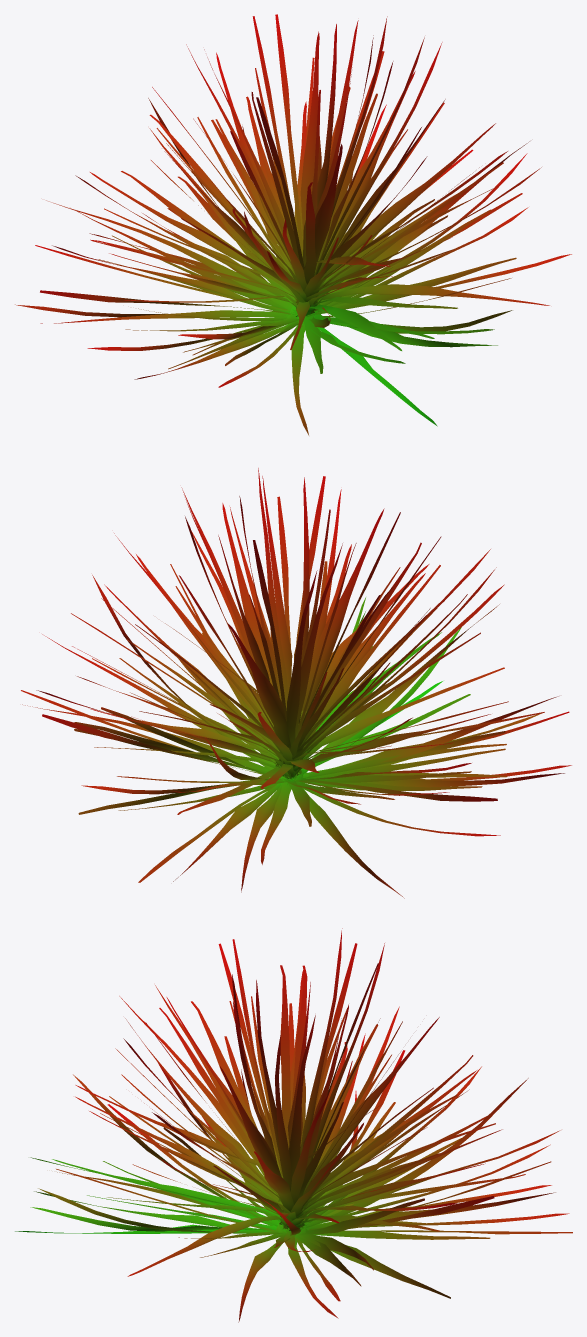
Rendered from Var11_LOD2.fbx.
3 views of the same model, one above another, from view 1: azimuth 30°, elevation 25°; view 2: azimuth 150°, elevation 25°; view 3: azimuth 270°, elevation 25° (orthographic). The views are drawn at different scales.
Parts seen in each view (by area): view 1: _kngv_Var11_LOD2; view 2: _kngv_Var11_LOD2; view 3: _kngv_Var11_LOD2.
Part boxes in pixels (left/top/right/bottom): _kngv_Var11_LOD2: left=15, top=14, right=571, bottom=435; _kngv_Var11_LOD2: left=21, top=468, right=571, bottom=898; _kngv_Var11_LOD2: left=15, top=928, right=572, bottom=1322.
Bounding box in the file's own units: 98.74 × 56.49 × 98.73.
